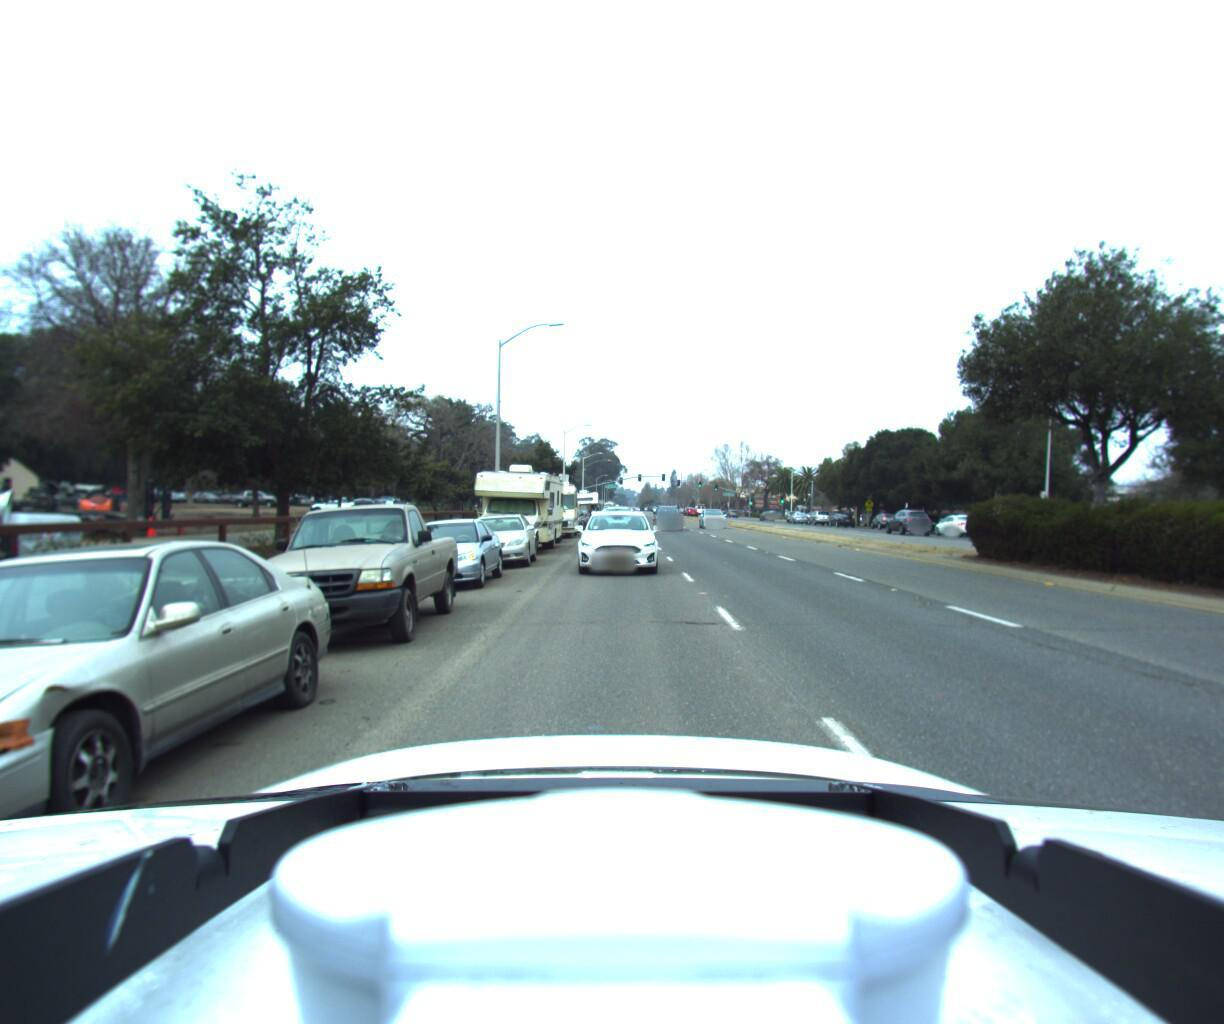car: (0, 524, 359, 932), (213, 492, 467, 656), (381, 514, 509, 593), (564, 507, 654, 575), (455, 509, 539, 571), (877, 507, 925, 534), (922, 513, 975, 535), (559, 498, 592, 527), (656, 505, 686, 529), (698, 505, 729, 528)
other_vehicle: (465, 459, 565, 552), (523, 479, 582, 538), (566, 489, 600, 524)
